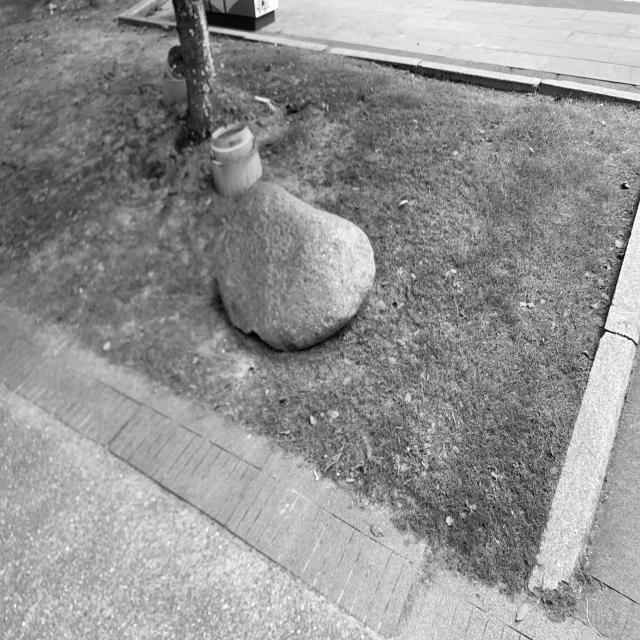Stone: (218, 181, 374, 350)
